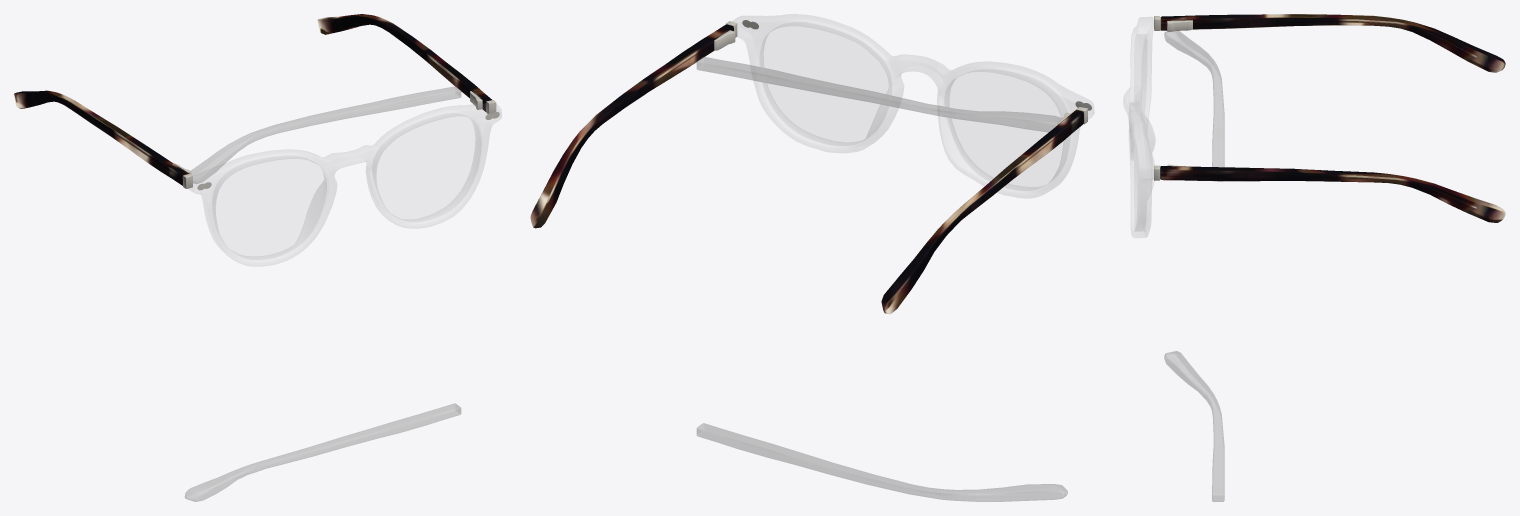
The model's file is glasses.glb.
The picture shows the model from 3 angles, left to right: view 1: azimuth 30°, elevation 25°; view 2: azimuth 150°, elevation 25°; view 3: azimuth 270°, elevation 25°; orthographic projection. The views are drawn at different scales.
Parts seen in each view (by area): view 1: Plane.007, Cube.008, Plane.008; view 2: Plane.007, Cube.008, Plane.008; view 3: Plane.008, Plane.007, Cube.008.
Boxes of the visible parts, left/top/right/bottom form: Plane.007: left=187, top=103, right=501, bottom=265; Cube.008: left=185, top=86, right=461, bottom=501; Plane.008: left=14, top=14, right=491, bottom=185; Plane.007: left=732, top=14, right=1093, bottom=197; Cube.008: left=696, top=57, right=1067, bottom=501; Plane.008: left=530, top=24, right=1083, bottom=313; Plane.008: left=1160, top=14, right=1505, bottom=222; Plane.007: left=1124, top=17, right=1154, bottom=237; Cube.008: left=1164, top=30, right=1224, bottom=501.
Bounding box in the file's own units: 565 × 587 × 572.
1 material, 1 textured.
